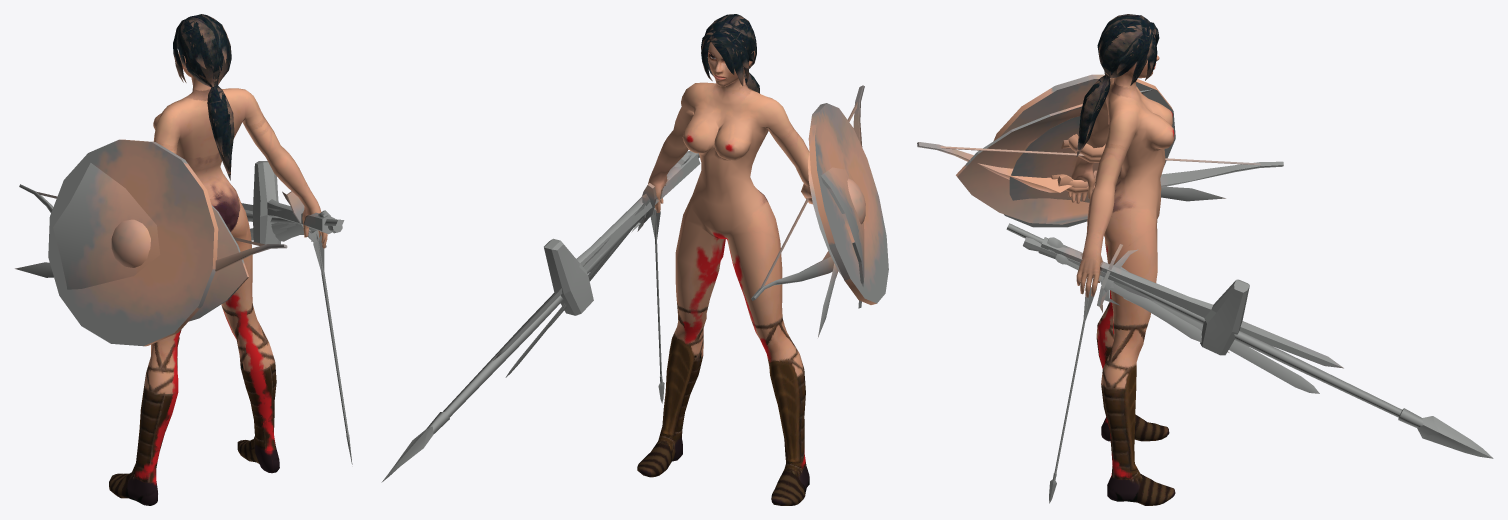
The model's file is Сиси.fbx.
The picture shows the model from 3 angles, left to right: view 1: azimuth 30°, elevation 25°; view 2: azimuth 150°, elevation 25°; view 3: azimuth 270°, elevation 25°; orthographic projection. The views are drawn at different scales.
Visible parts, largest first — view 1: node_id40 (×2), node_id60 (×2), node_id25 (×3); view 2: node_id60 (×2), node_id40 (×2), node_id25 (×5); view 3: node_id60 (×2), node_id25 (×6), node_id40 (×4).
Part boxes in pixels (bbox=[...]): node_id40 (×2): bbox=[48, 139, 248, 346]; node_id60 (×2): bbox=[19, 14, 327, 505]; node_id25 (×3): bbox=[241, 161, 352, 464]; node_id60 (×2): bbox=[637, 14, 864, 505]; node_id40 (×2): bbox=[801, 103, 888, 308]; node_id25 (×5): bbox=[381, 151, 700, 482]; node_id60 (×2): bbox=[917, 14, 1283, 505]; node_id25 (×6): bbox=[1006, 223, 1493, 503]; node_id40 (×4): bbox=[956, 74, 1225, 227].
Bounding box in the file's own units: 0.3592 × 0.5255 × 0.6049.
1 material, 1 textured.
